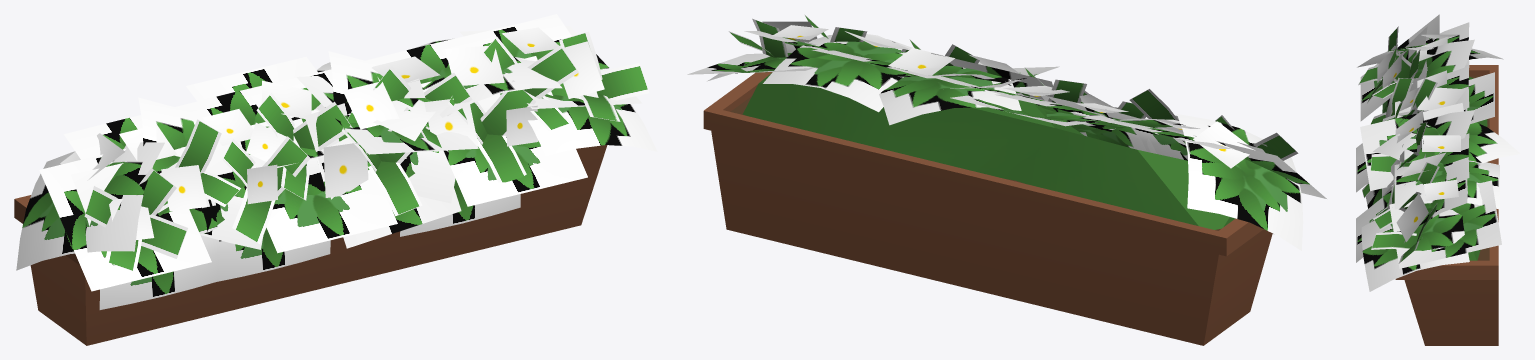
Rendered from FlowerPot_06.glb.
3 views of the same model, side by side, from view 1: azimuth 30°, elevation 25°; view 2: azimuth 150°, elevation 25°; view 3: azimuth 270°, elevation 25° (orthographic). The views are drawn at different scales.
Parts seen in each view (by area): view 1: FlowerPot_06_LOD0; view 2: FlowerPot_06_LOD0; view 3: FlowerPot_06_LOD0.
Boxes of the visible parts, left/top/right/bottom form: FlowerPot_06_LOD0: left=14, top=14, right=657, bottom=345; FlowerPot_06_LOD0: left=687, top=14, right=1326, bottom=345; FlowerPot_06_LOD0: left=1356, top=14, right=1520, bottom=345.
Size of what is drawn, in the model's own units: 1.23 by 0.3926 by 0.3793.
Materials: 2 (2 with a texture image).
